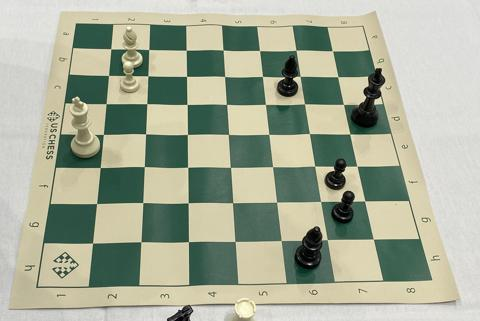xcorner: (328, 44, 339, 55), (292, 44, 303, 55), (255, 44, 266, 55), (218, 44, 229, 55), (181, 44, 192, 55), (144, 43, 155, 54), (106, 43, 117, 54), (334, 70, 345, 81), (296, 70, 307, 81), (258, 70, 269, 81), (220, 70, 231, 81), (181, 70, 192, 81), (143, 70, 154, 81), (103, 70, 114, 81), (340, 98, 351, 109), (301, 98, 312, 109), (261, 98, 272, 109), (222, 98, 233, 109), (182, 98, 193, 109), (141, 98, 152, 109), (100, 98, 111, 109), (346, 128, 357, 139), (265, 128, 276, 139), (223, 128, 234, 139), (182, 128, 193, 139), (140, 128, 151, 139), (97, 128, 108, 139), (353, 160, 364, 171), (311, 160, 322, 171), (268, 160, 279, 171), (225, 161, 236, 172), (182, 161, 193, 172), (138, 161, 149, 172), (94, 162, 105, 173), (360, 195, 371, 206), (316, 195, 327, 206), (272, 196, 283, 207), (227, 196, 238, 207), (182, 197, 193, 208), (137, 197, 148, 208), (91, 198, 102, 209), (368, 233, 379, 244), (323, 233, 334, 244), (276, 234, 287, 245), (230, 235, 241, 246), (182, 235, 193, 246), (135, 236, 146, 247), (87, 237, 98, 248), (306, 128, 316, 139)
